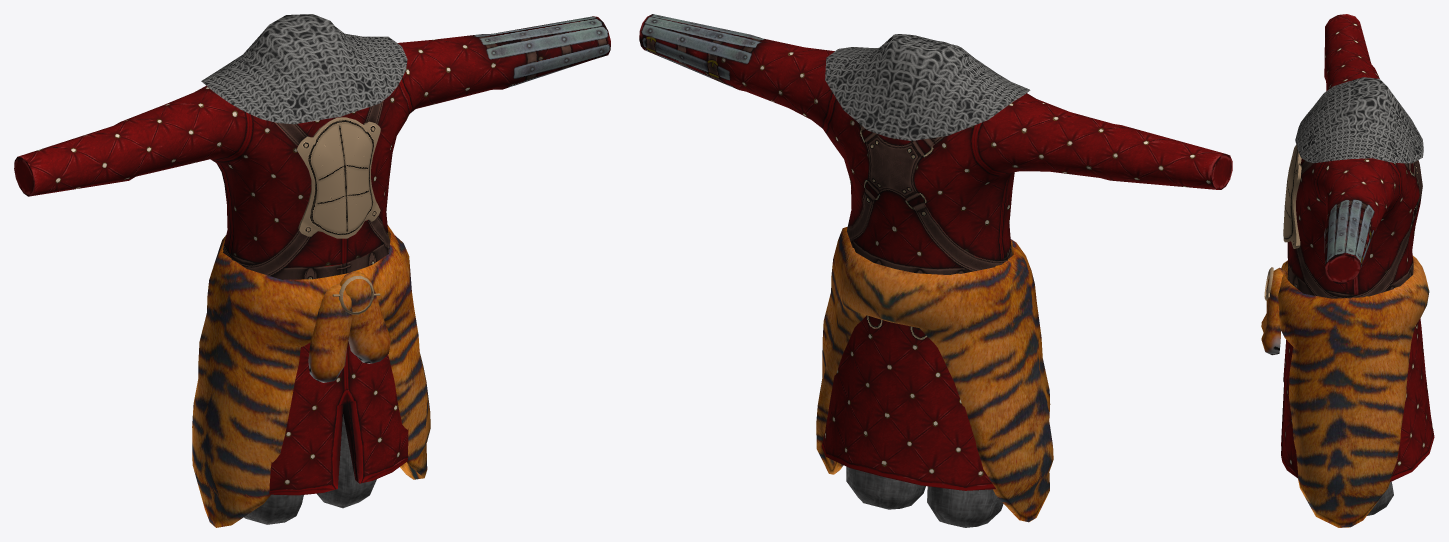
Rendered from Tier3_game.obj.
The picture shows the model from 3 angles, left to right: view 1: azimuth 30°, elevation 25°; view 2: azimuth 150°, elevation 25°; view 3: azimuth 270°, elevation 25°; orthographic projection. The views are drawn at different scales.
Parts seen in each view (by area): view 1: Body_game, TigerSkirt_game, Chainmail_game, ShieldChest_game, HangingPaw_R_game, Legs_game, HangingPaw_L_game; view 2: Body_game, TigerSkirt_game, Chainmail_game, Legs_game; view 3: TigerSkirt_game, Body_game, Chainmail_game, ShieldChest_game, HangingPaw_L_game, Legs_game.
Boxes of the visible parts, box(x1,y1,x2,y2) form: Body_game: box(14, 16, 610, 495); TigerSkirt_game: box(192, 225, 430, 527); Chainmail_game: box(201, 14, 407, 124); ShieldChest_game: box(297, 117, 380, 238); HangingPaw_R_game: box(308, 283, 352, 382); Legs_game: box(244, 414, 376, 524); HangingPaw_L_game: box(340, 271, 391, 363); Body_game: box(639, 14, 1232, 490); TigerSkirt_game: box(816, 227, 1053, 522); Chainmail_game: box(825, 34, 1030, 140); Legs_game: box(846, 466, 1003, 527); TigerSkirt_game: box(1278, 255, 1429, 527); Body_game: box(1281, 14, 1434, 481); Chainmail_game: box(1295, 77, 1423, 163); ShieldChest_game: box(1283, 144, 1301, 248); HangingPaw_L_game: box(1261, 267, 1285, 355); Legs_game: box(1367, 481, 1393, 515).
Bounding box in the file's own units: 1.5 × 1.2 × 0.4578.
